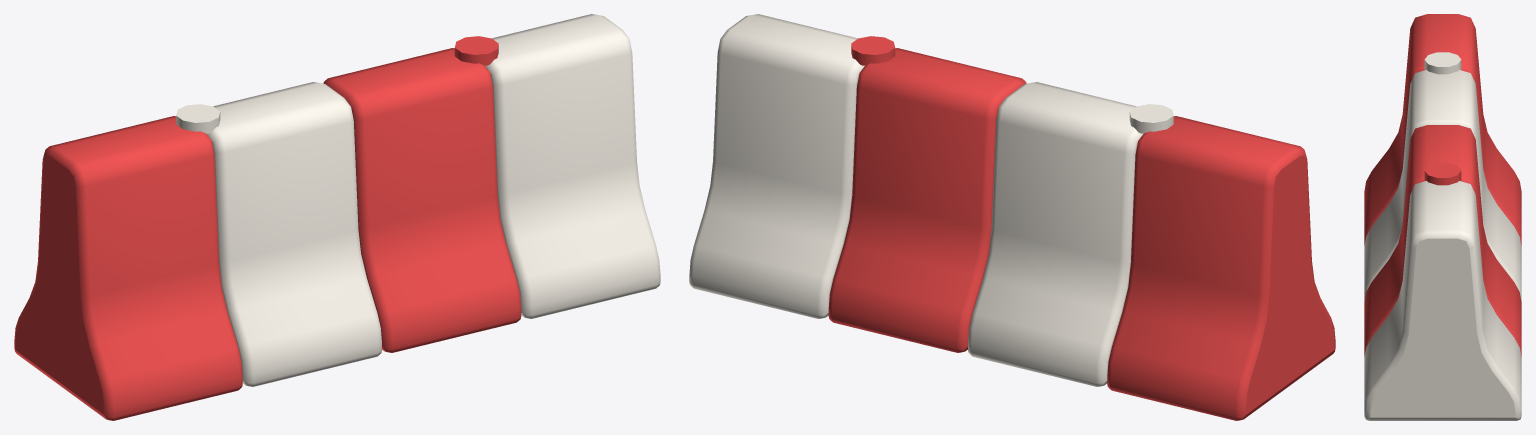
Rendered from barrier_block.glb.
3 views of the same model, side by side, from view 1: azimuth 30°, elevation 25°; view 2: azimuth 150°, elevation 25°; view 3: azimuth 270°, elevation 25° (orthographic). The views are drawn at different scales.
Visible parts, largest first — view 1: barrier_block; view 2: barrier_block; view 3: barrier_block.
Boxes of the visible parts, x1,y1,x2,y2 form: barrier_block: (14,14,660,420); barrier_block: (689,14,1335,420); barrier_block: (1364,14,1521,420).
Size of the model in its own units: 2 by 0.83 by 0.6.
